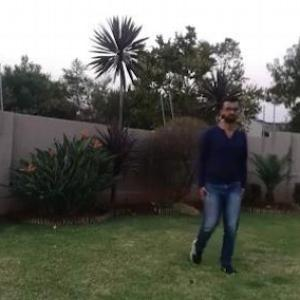follow: (202, 101, 247, 260)
